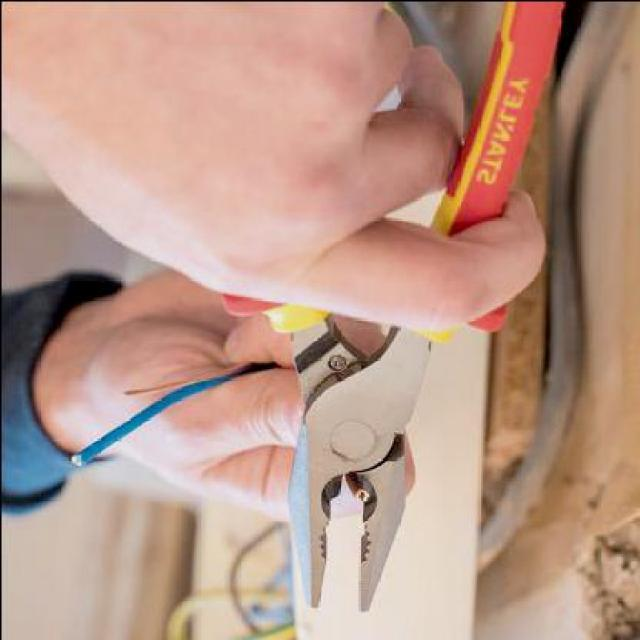pliers: (284, 326, 419, 616)
